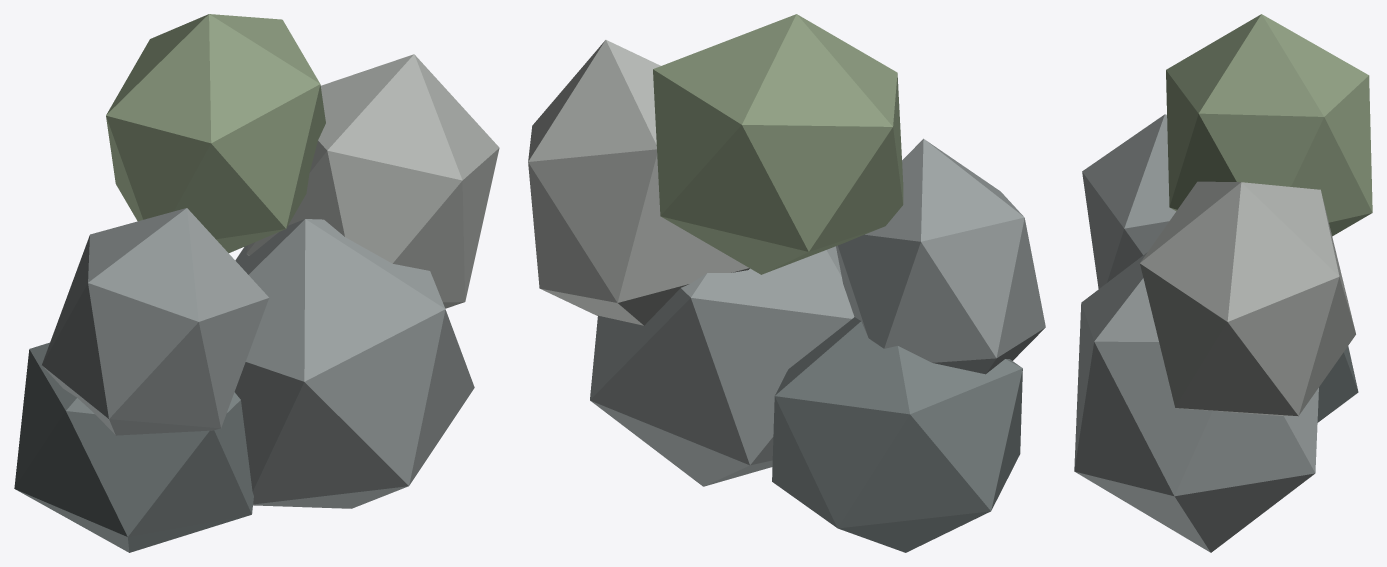
File: rock_outcrop_tall_3x3.glb
3 views of the same model, side by side, from view 1: azimuth 30°, elevation 25°; view 2: azimuth 150°, elevation 25°; view 3: azimuth 270°, elevation 25° (orthographic). The views are drawn at different scales.
Visible parts, largest first — view 1: outcrop_tall_02, outcrop_tall_04, outcrop_tall_05, outcrop_tall_03, outcrop_tall_01; view 2: outcrop_tall_04, outcrop_tall_01, outcrop_tall_02, outcrop_tall_03, outcrop_tall_05; view 3: outcrop_tall_03, outcrop_tall_02, outcrop_tall_04, outcrop_tall_05, outcrop_tall_01.
Boxes of the visible parts, x1,y1,x2,y2 form: outcrop_tall_02: (234,219,474,508); outcrop_tall_04: (106,14,325,252); outcrop_tall_05: (42,208,268,435); outcrop_tall_03: (246,54,499,308); outcrop_tall_01: (14,342,253,552); outcrop_tall_04: (653,14,903,274); outcrop_tall_01: (772,317,1022,552); outcrop_tall_02: (590,246,854,486); outcrop_tall_03: (528,40,749,325); outcrop_tall_05: (836,138,1045,374); outcrop_tall_03: (1140,181,1355,416); outcrop_tall_02: (1074,252,1318,552); outcrop_tall_04: (1166,14,1372,236); outcrop_tall_05: (1082,114,1175,288); outcrop_tall_01: (1317,346,1358,422).
Bounding box in the file's own units: 2.9 × 3.03 × 1.68.
